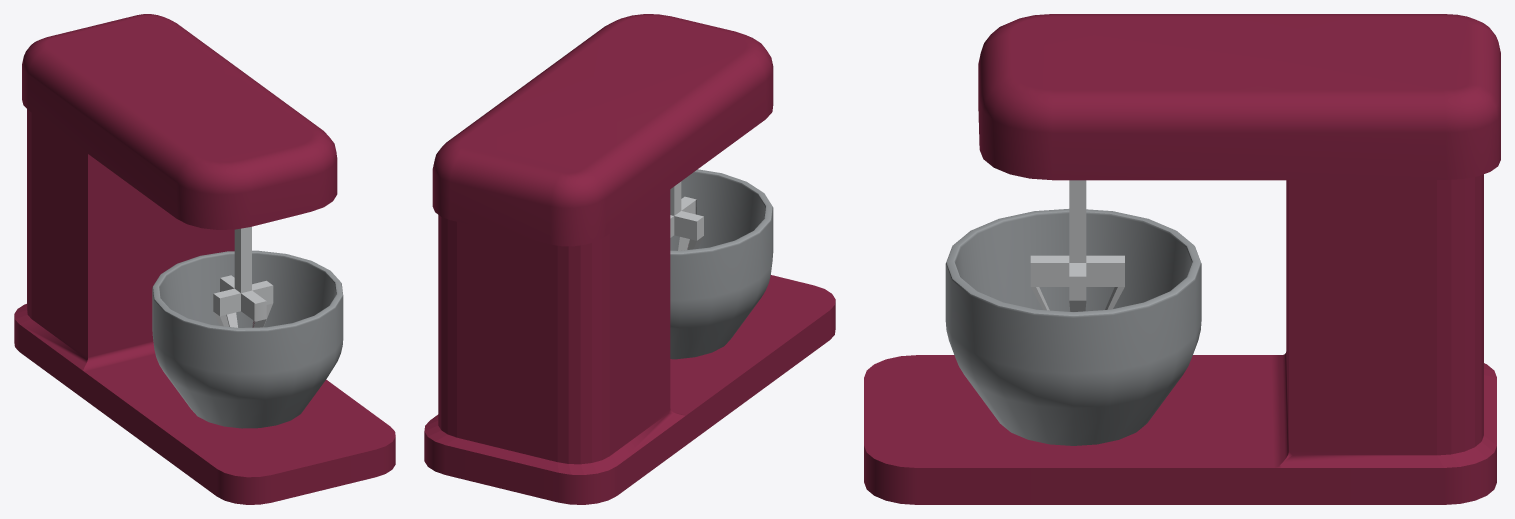
File: Whisk Machine Model.fbx
The picture shows the model from 3 angles, left to right: view 1: azimuth 30°, elevation 25°; view 2: azimuth 150°, elevation 25°; view 3: azimuth 270°, elevation 25°; orthographic projection. The views are drawn at different scales.
Visible parts, largest first — view 1: Whisk_Machine; view 2: Whisk_Machine; view 3: Whisk_Machine.
Boxes of the visible parts, box(x1,y1,x2,y2) form: Whisk_Machine: box(14, 14, 395, 504); Whisk_Machine: box(424, 14, 835, 504); Whisk_Machine: box(864, 14, 1500, 504).
Bounding box in the file's own units: 3.47 × 5.66 × 8.27.
1 material, 1 textured.
